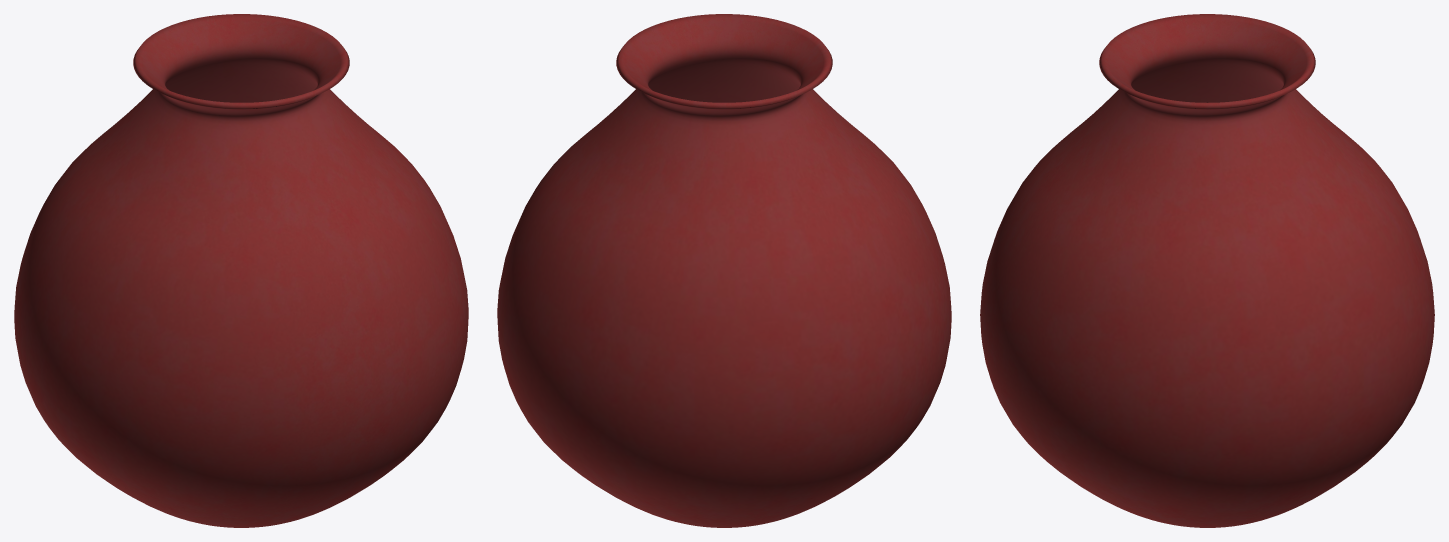
Rendered from clay_water_pot_matka.glb.
3 views of the same model, side by side, from view 1: azimuth 30°, elevation 25°; view 2: azimuth 150°, elevation 25°; view 3: azimuth 270°, elevation 25° (orthographic).
Visible parts, largest first — view 1: Sphere; view 2: Sphere; view 3: Sphere.
Part boxes in pixels (box(x1,y1,x2,y2)): Sphere: box(14, 14, 468, 527); Sphere: box(497, 14, 951, 527); Sphere: box(980, 14, 1434, 527).
Bounding box in the file's own units: 0.3766 × 0.4005 × 0.3766.
1 material, 1 textured.
